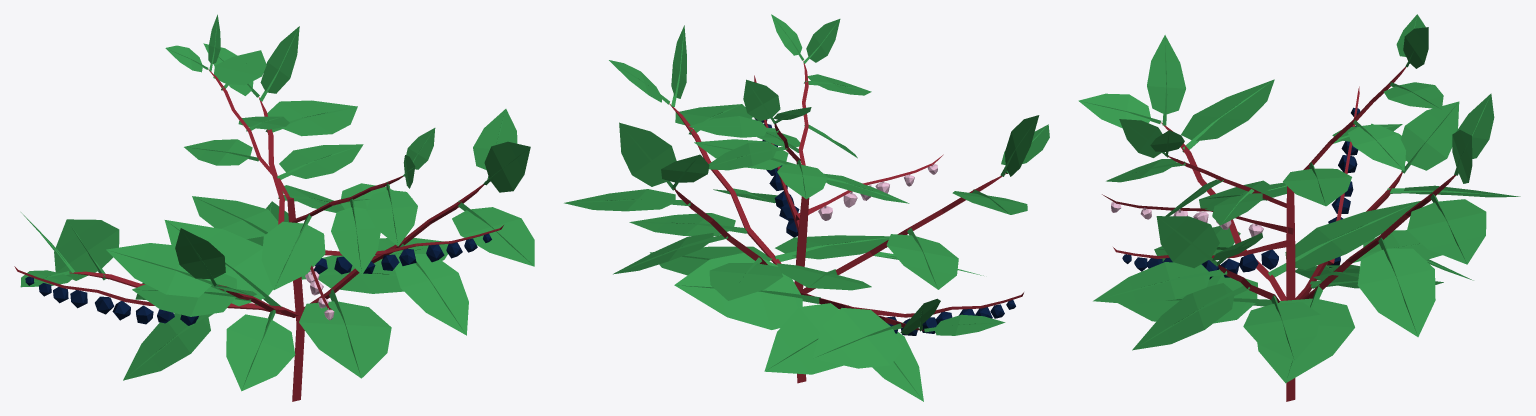
The model's file is salal.glb.
3 renders of one model, left to right at view 1: azimuth 30°, elevation 25°; view 2: azimuth 150°, elevation 25°; view 3: azimuth 270°, elevation 25°, orthographic. The views are drawn at different scales.
Parts seen in each view (by area): view 1: Plane.013, Plane.008, Plane.015, Plane.007, Plane.010, Plane.031, Plane.016, Plane.004, Plane.002, Plane.022, Plane.020, Plane.033 (+27 smaller); view 2: Plane.001, Plane.004, Plane.003, Plane.009, Plane.024, Plane.020, Plane.013, Plane.022, Plane.014, Plane.002, Plane.021, Plane.007 (+25 smaller); view 3: Plane.021, Plane.022, Plane.007, Plane.015, Plane.014, Plane.019, Plane.016, Plane.006, Plane.010, Plane.018, Plane.012, Plane.025 (+27 smaller).
Part boxes in pixels (<box>): Plane.013: <box>299,289,391,378</box>; Plane.008: <box>226,308,295,391</box>; Plane.015: <box>394,242,468,335</box>; Plane.007: <box>164,220,281,307</box>; Plane.010: <box>106,243,226,297</box>; Plane.031: <box>261,214,325,289</box>; Plane.016: <box>452,200,534,266</box>; Plane.004: <box>54,219,119,280</box>; Plane.002: <box>123,313,213,380</box>; Plane.022: <box>265,100,357,136</box>; Plane.020: <box>192,196,278,238</box>; Plane.033: <box>331,199,380,274</box>; Plane.001: <box>674,253,820,329</box>; Plane.004: <box>812,308,903,368</box>; Plane.003: <box>764,303,843,374</box>; Plane.009: <box>886,228,958,289</box>; Plane.024: <box>619,122,676,190</box>; Plane.020: <box>709,257,783,300</box>; Plane.013: <box>774,235,889,261</box>; Plane.022: <box>564,189,690,211</box>; Plane.014: <box>629,213,747,235</box>; Plane.002: <box>848,305,923,401</box>; Plane.021: <box>613,233,728,274</box>; Plane.007: <box>777,263,871,290</box>; Plane.021: <box>1357,237,1435,336</box>; Plane.022: <box>1407,192,1486,264</box>; Plane.007: <box>1268,201,1420,277</box>; Plane.015: <box>1132,283,1249,350</box>; Plane.014: <box>1243,295,1320,360</box>; Plane.019: <box>1257,285,1354,383</box>; Plane.016: <box>1093,262,1227,304</box>; Plane.006: <box>1401,101,1459,173</box>; Plane.010: <box>1181,79,1274,152</box>; Plane.018: <box>1156,216,1219,268</box>; Plane.012: <box>1147,35,1185,125</box>; Plane.025: <box>1283,162,1351,206</box>.
Size of the model in its own units: 6.47 by 4.73 by 5.19.
